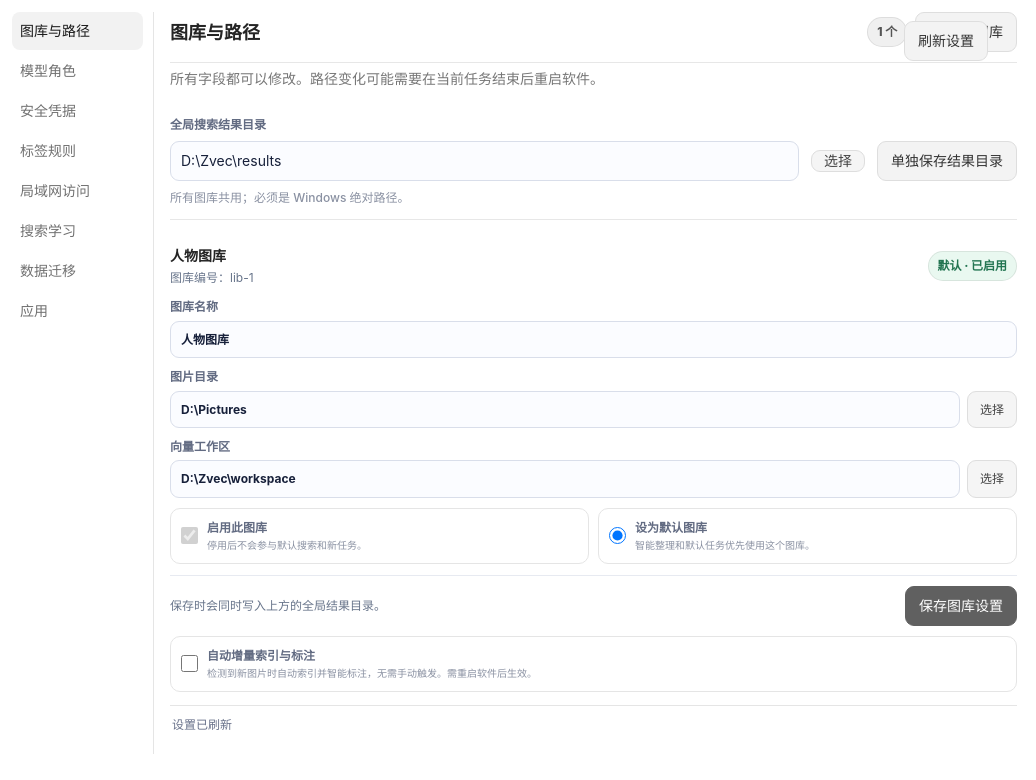
it: SettingsPage › validates and saves all editable library fields plus the global results directory
Replace the text in the field named "name" with "Cosplay 图库" at (594, 340), box [170,321,1017,358]
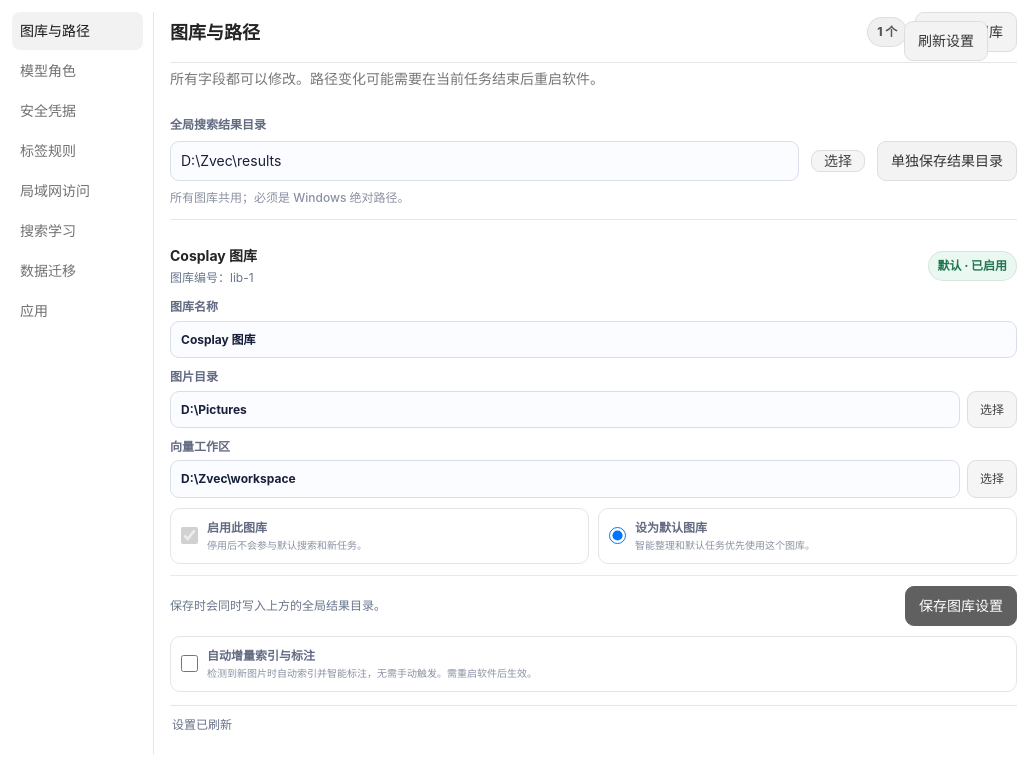
Replace the text in the field named "image_root" with "E:\\Cosplay" at (565, 409), box [170,390,960,428]
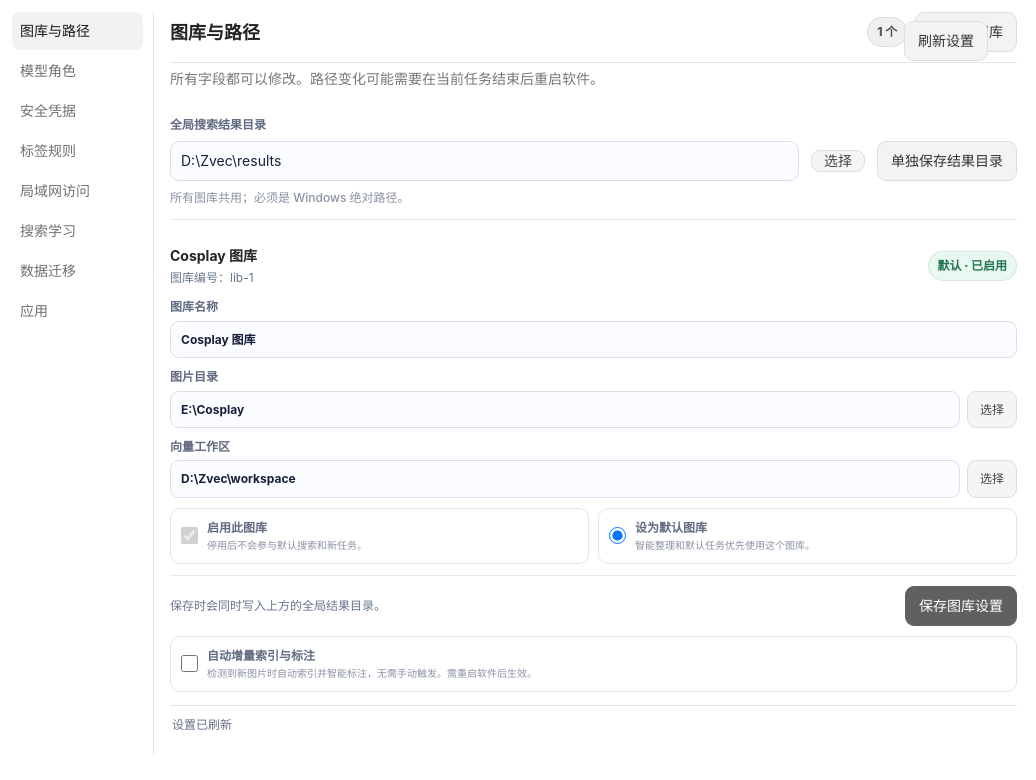
Replace the text in the field named "workspace_directory" with "E:\\Zvec\\workspace" at (565, 479), box [170,460,960,498]
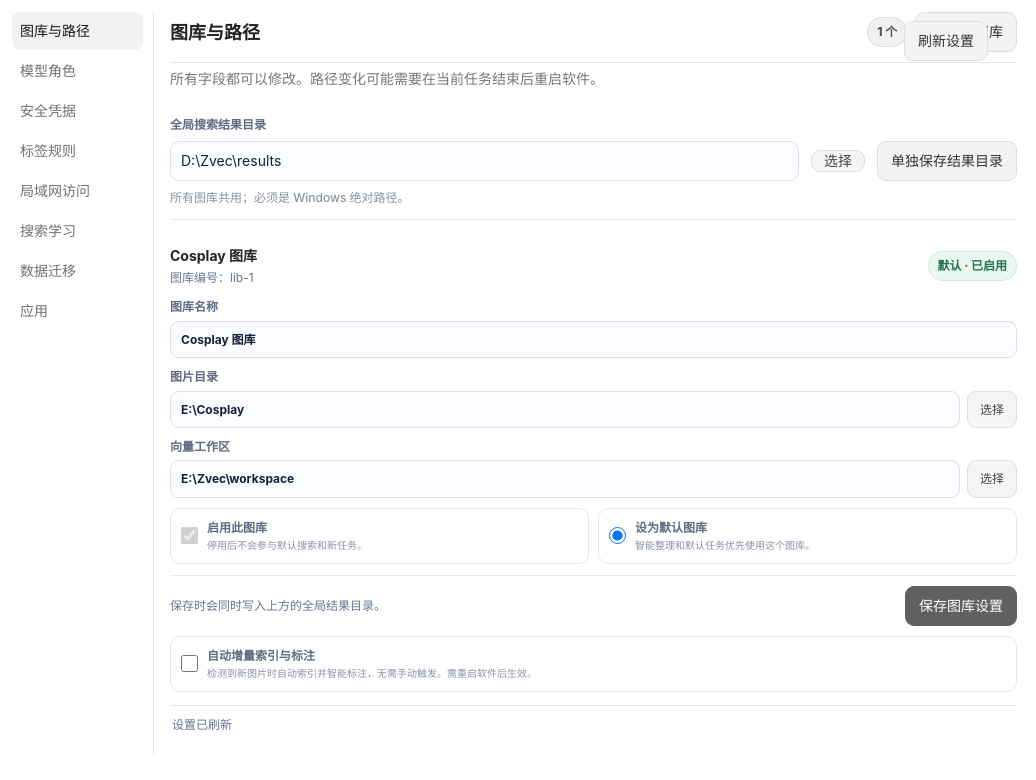
Replace the text in the field named "results_directory" with "E:\\Zvec\\results" at (484, 161), box [170,141,799,181]
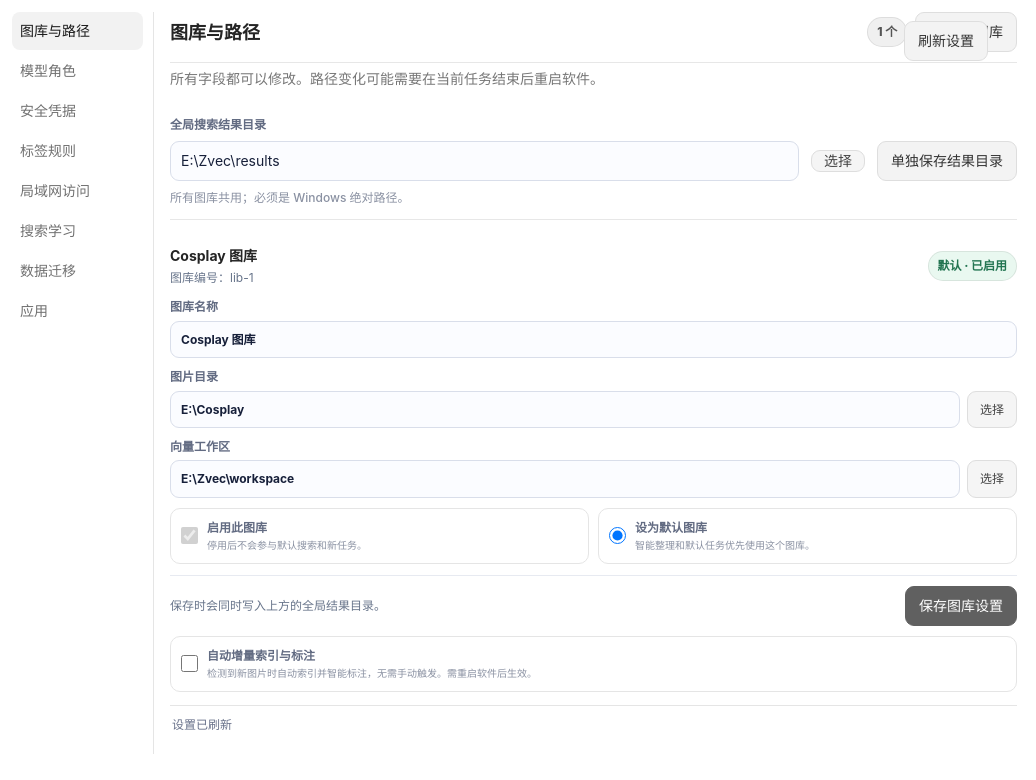
Submit the form with class "library-editor", box [170,233,1017,706]
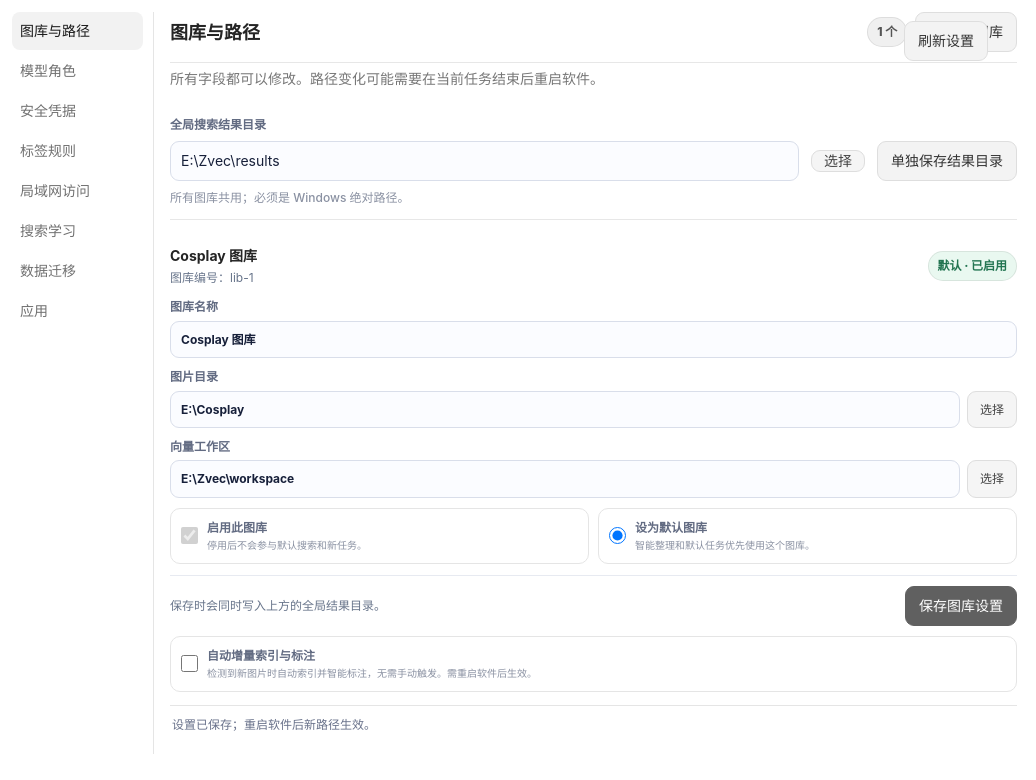
Expected: the text "重启软件后新路径生效" is shown, [172,717,376,732]
